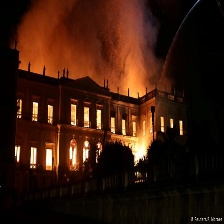fire: (8, 135, 91, 166), (131, 138, 149, 163)
smoke: (20, 1, 184, 86)
